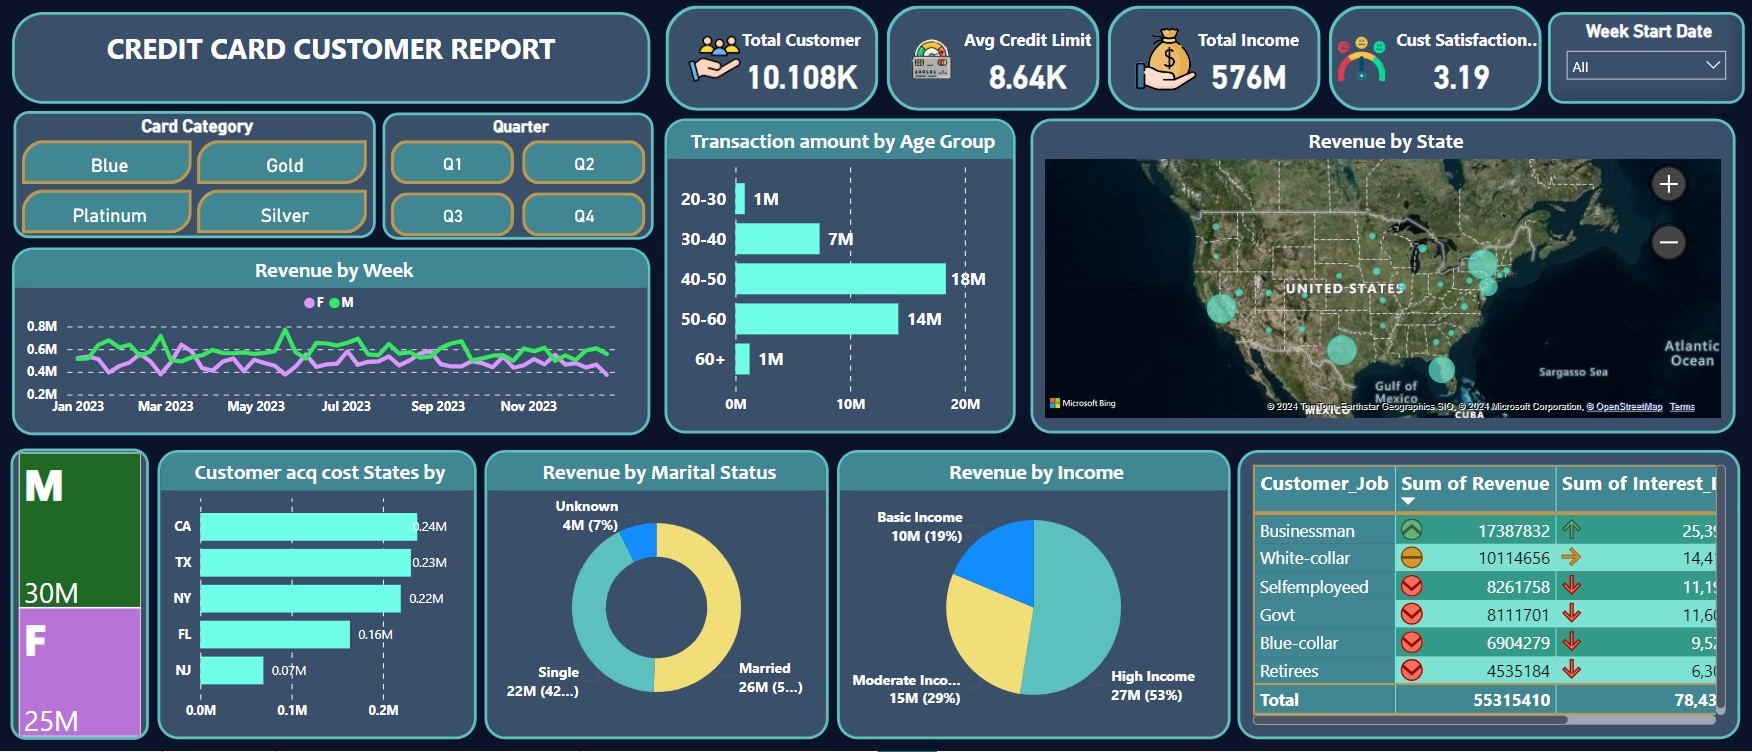

This screenshot's page, from the dashboard's own definition file:
{"tool":"powerbi","page":{"name":"Credit Card Customer Report","canvas":[1680,720],"ordinal":2},"visuals":[{"type":"textbox","box":[11.8,11.5,612.2,87.9],"z":0},{"type":"barChart","title":"Customer acq cost States by","fields":{"Category":["credit_card cust_detail.State_cd"],"Y":["Sum(credit_card cc_detail.Customer_Acq_Cost)"]},"box":[151.1,431.3,306.1,277.4],"z":1000},{"type":"tableEx","fields":{"Values":["credit_card cust_detail.Customer_Job","Sum(credit_card cc_detail.Revenue)","Sum(credit_card cc_detail.Interest_Earned)","Sum(credit_card cust_detail.Income)"]},"box":[1187,431.3,482,277.4],"z":2000},{"type":"lineChart","title":" Revenue by Week","fields":{"Y":["Sum(credit_card cc_detail.Revenue)"],"Series":["credit_card cust_detail.Gender"],"Category":["credit_card cc_detail.Week_Start_Date.Variation.Date Hierarchy.Year","credit_card cc_detail.Week_Start_Date.Variation.Date Hierarchy.Quarter","credit_card cc_detail.Week_Start_Date.Variation.Date Hierarchy.Month","credit_card cc_detail.Week_Start_Date.Variation.Date Hierarchy.Day"]},"box":[11.8,236.8,612.2,180],"z":3000},{"type":"treemap","fields":{"Group":["credit_card cust_detail.Gender"],"Values":["Sum(credit_card cc_detail.Revenue)"]},"box":[10.6,430.6,132.9,279.1],"z":4000},{"type":"donutChart","title":"Revenue by Marital Status","fields":{"Category":["credit_card cust_detail.Marital_Status"],"Y":["Sum(credit_card cc_detail.Revenue)"]},"box":[464.9,431.3,329.8,277.4],"z":5000},{"type":"barChart","title":"Transaction amount by Age Group","fields":{"Category":["credit_card cust_detail.AgeGroup"],"Y":["Sum(credit_card cc_detail.Total_Trans_Amt)"]},"box":[637.6,113.7,337,301.8],"z":6000},{"type":"pieChart","title":"Revenue by Income","fields":{"Category":["credit_card cust_detail.IncomeGroup"],"Y":["Sum(credit_card cc_detail.Revenue)"]},"box":[802.2,431.3,377.2,277.4],"z":7000},{"type":"map","title":"Revenue by State","fields":{"Category":["credit_card cust_detail.State_cd"],"Size":["Sum(credit_card cc_detail.Revenue)"]},"box":[988.2,113.7,676,301.8],"z":8000},{"type":"advancedSlicerVisual","title":"Card Category","fields":{"Values":["credit_card cc_detail.Card_Category"]},"box":[12.4,107,347,122],"z":9000},{"type":"advancedSlicerVisual","title":"Quarter","fields":{"Values":["credit_card cc_detail.Qtr"]},"box":[366,107.5,260,122],"z":10000},{"type":"slicer","title":"Week Start Date","fields":{"Values":["credit_card cc_detail.Week_Start_Date"]},"box":[1484.1,11.5,188.4,87.7],"z":11000},{"type":"cardVisual","title":"Total Customer","fields":{"Data":["Count(credit_card cust_detail.Client_Num)","Avg(credit_card cc_detail.Credit_Limit)","Sum(credit_card cust_detail.Income)","Avg(credit_card cust_detail.Cust_Satisfaction_Score)"]},"box":[632.6,0,851.7,111.6],"z":12000}]}

Visuals, with their boxes in screenshot pixels (x1, y1, x2, y2), scaled from the page's 1680x720 canvas onto the 1752x752 screenshot:
textbox: bbox=(12, 12, 651, 104)
"Customer acq cost States by" barChart: bbox=(158, 450, 477, 740)
tableEx - credit_card cust_detail.Customer_Job x Sum(credit_card cc_detail.Revenue): bbox=(1238, 450, 1741, 740)
" Revenue by Week" lineChart: bbox=(12, 247, 651, 435)
treemap - credit_card cust_detail.Gender x Sum(credit_card cc_detail.Revenue): bbox=(11, 450, 150, 741)
"Revenue by Marital Status" donutChart: bbox=(485, 450, 829, 740)
"Transaction amount by Age Group" barChart: bbox=(665, 119, 1016, 434)
"Revenue by Income" pieChart: bbox=(837, 450, 1230, 740)
"Revenue by State" map: bbox=(1031, 119, 1736, 434)
"Card Category" advancedSlicerVisual: bbox=(13, 112, 375, 239)
"Quarter" advancedSlicerVisual: bbox=(382, 112, 653, 240)
"Week Start Date" slicer: bbox=(1548, 12, 1744, 104)
"Total Customer" cardVisual: bbox=(660, 0, 1548, 117)
